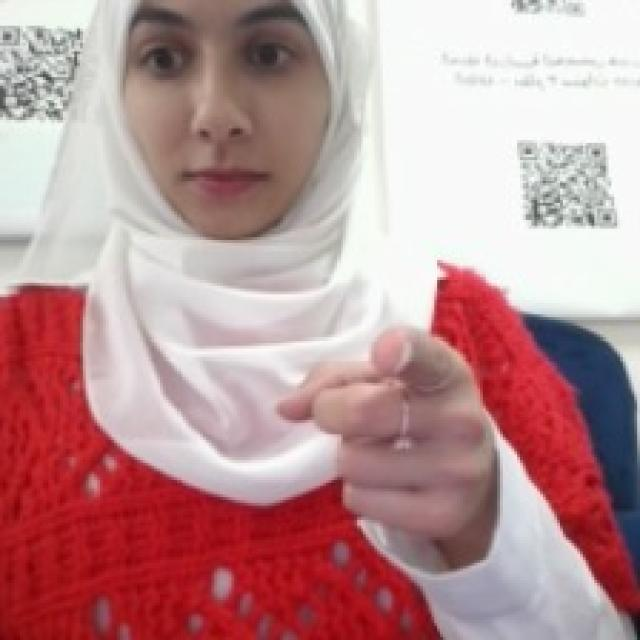you: (271, 314, 500, 546)
